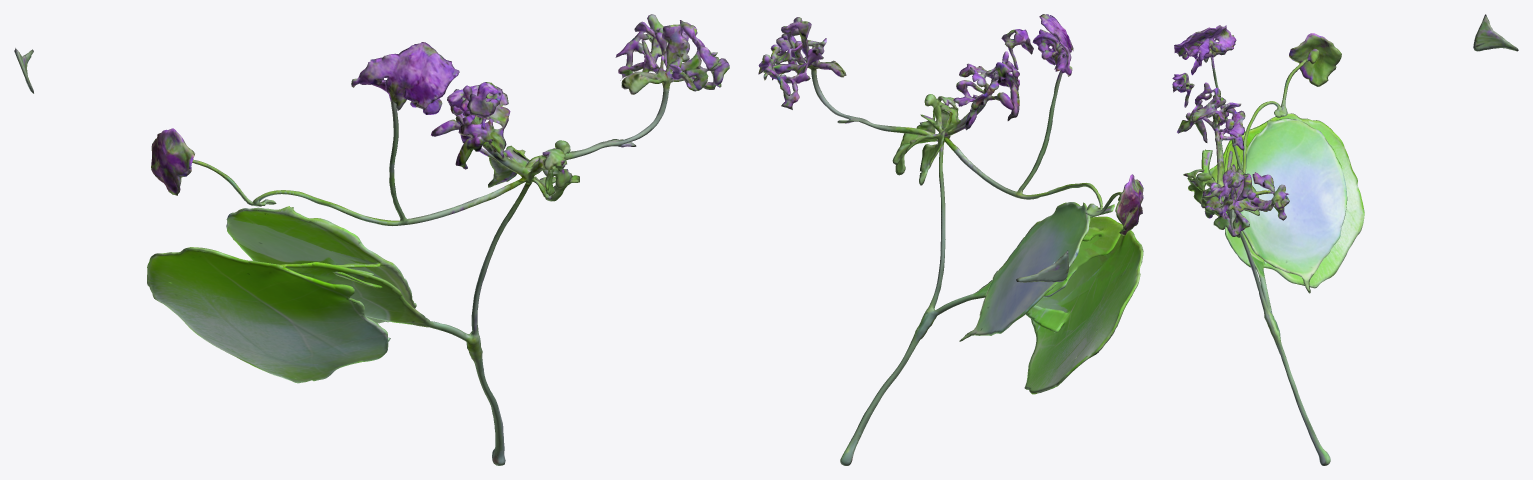
File: climber0019.gltf
3 renders of one model, left to right at view 1: azimuth 30°, elevation 25°; view 2: azimuth 150°, elevation 25°; view 3: azimuth 270°, elevation 25°, orthographic. The views are drawn at different scales.
Visible parts, largest first — view 1: Mesh_0.026; view 2: Mesh_0.026; view 3: Mesh_0.026.
Part boxes in pixels (left/top/right/bottom): Mesh_0.026: left=14, top=14, right=729, bottom=465; Mesh_0.026: left=758, top=14, right=1143, bottom=465; Mesh_0.026: left=1172, top=14, right=1518, bottom=465.
Bounding box in the file's own units: 2 × 1.87 × 1.54.
Materials: 1 (1 with a texture image).
